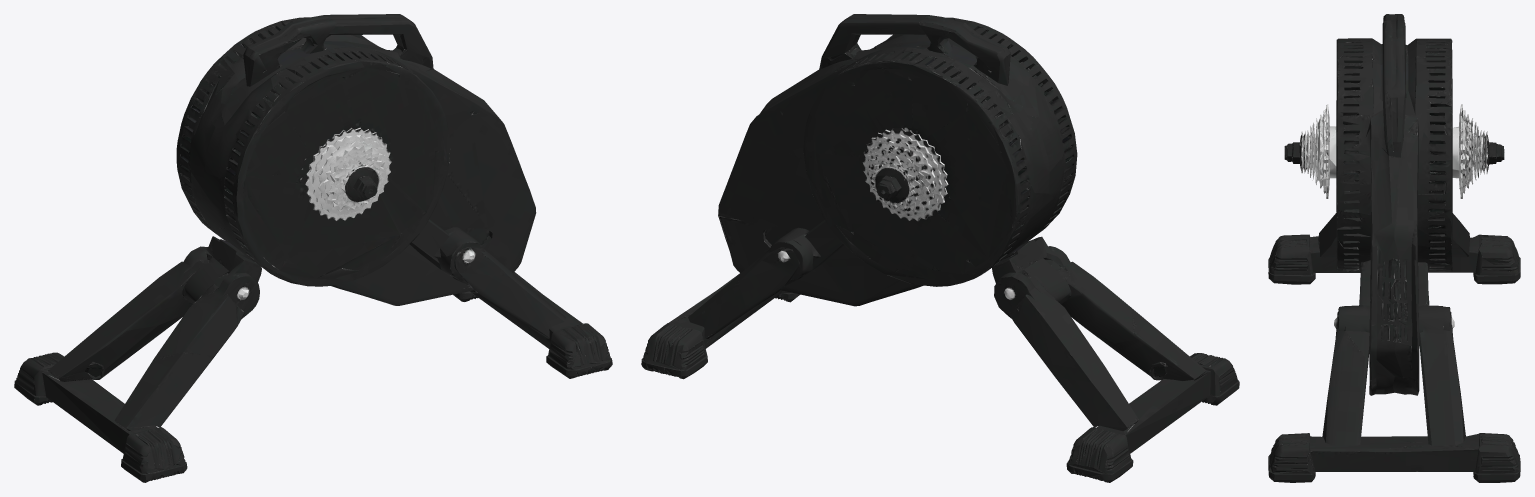
Rendered from hf-trainer.glb.
The picture shows the model from 3 angles, left to right: view 1: azimuth 30°, elevation 25°; view 2: azimuth 150°, elevation 25°; view 3: azimuth 270°, elevation 25°; orthographic projection. The views are drawn at different scales.
Visible parts, largest first — view 1: Mesh_0; view 2: Mesh_0; view 3: Mesh_0.
Part boxes in pixels (bbox=[...]): Mesh_0: bbox=[14, 14, 612, 482]; Mesh_0: bbox=[641, 14, 1239, 482]; Mesh_0: bbox=[1268, 14, 1520, 482].
Size of the model in its own units: 1.9 by 1.39 by 0.9189.
1 material, 1 textured.
